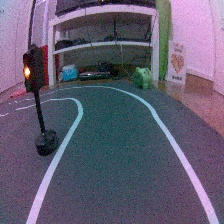amber: (20, 44, 62, 155)
